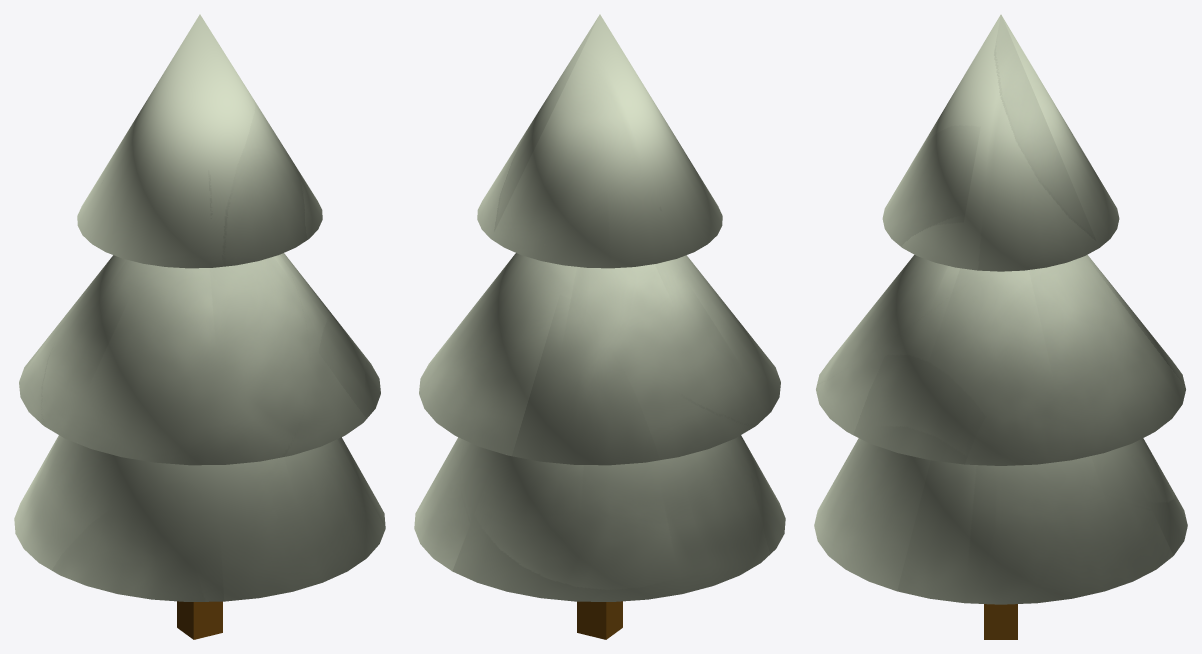
The model's file is pine treee.glb.
3 renders of one model, left to right at view 1: azimuth 30°, elevation 25°; view 2: azimuth 150°, elevation 25°; view 3: azimuth 270°, elevation 25°, orthographic.
Visible parts, largest first — view 1: Cone.003, Cube; view 2: Cone.003, Cube; view 3: Cone.003, Cube.
Boxes of the visible parts, x1,y1,x2,y2 form: Cone.003: (14,14,385,601); Cube: (177,601,222,639); Cone.003: (414,14,785,601); Cube: (577,601,622,639); Cone.003: (814,14,1187,604); Cube: (984,604,1017,639).
Bounding box in the file's own units: 13.38 × 24.43 × 13.38.
2 materials, 2 textured.
